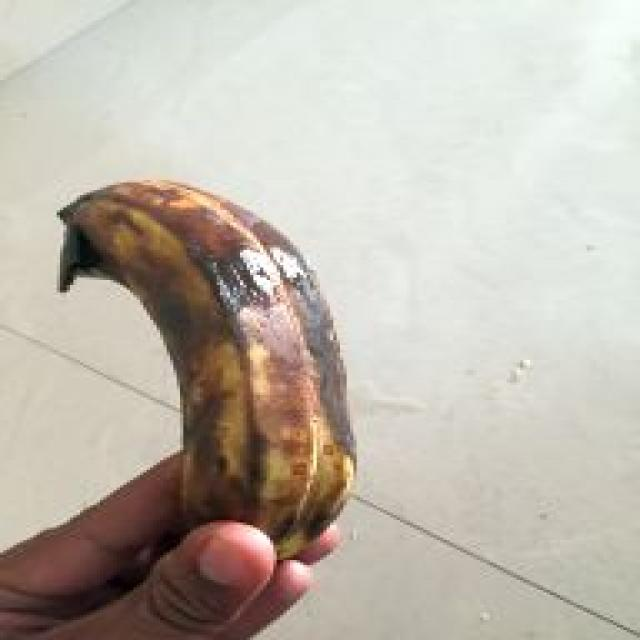Rotten: (30, 142, 374, 604)
